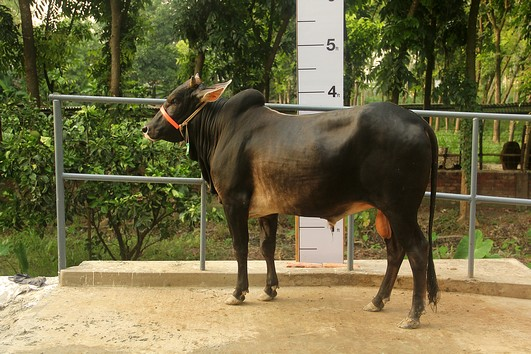cow: (136, 69, 452, 332)
